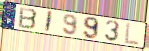3: (104, 20, 120, 43)
9: (81, 16, 100, 40), (62, 14, 79, 36)
B: (18, 6, 39, 30)
I: (44, 10, 54, 33)
L: (123, 22, 140, 46)
